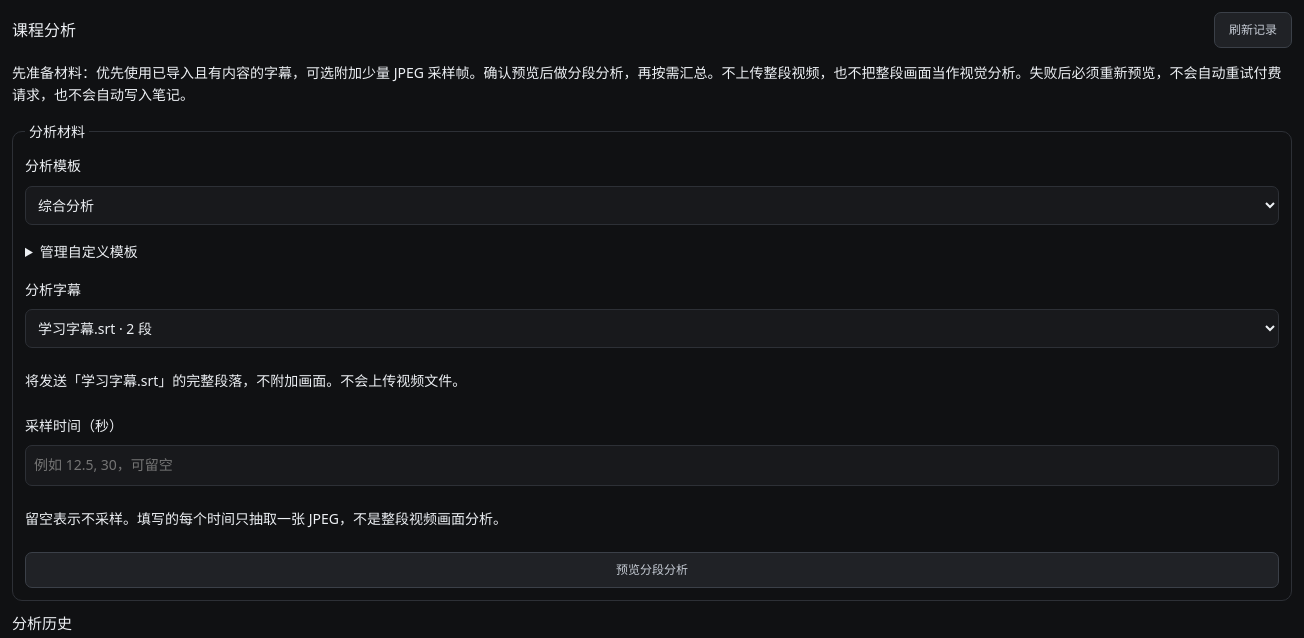
it: keeps the actual summary parent authoritative when refreshed metadata omits the selected record
The image size is (1304, 638).
Click the button "刷新记录": (1253, 30) [1214,12,1292,48]
(page scrolled)
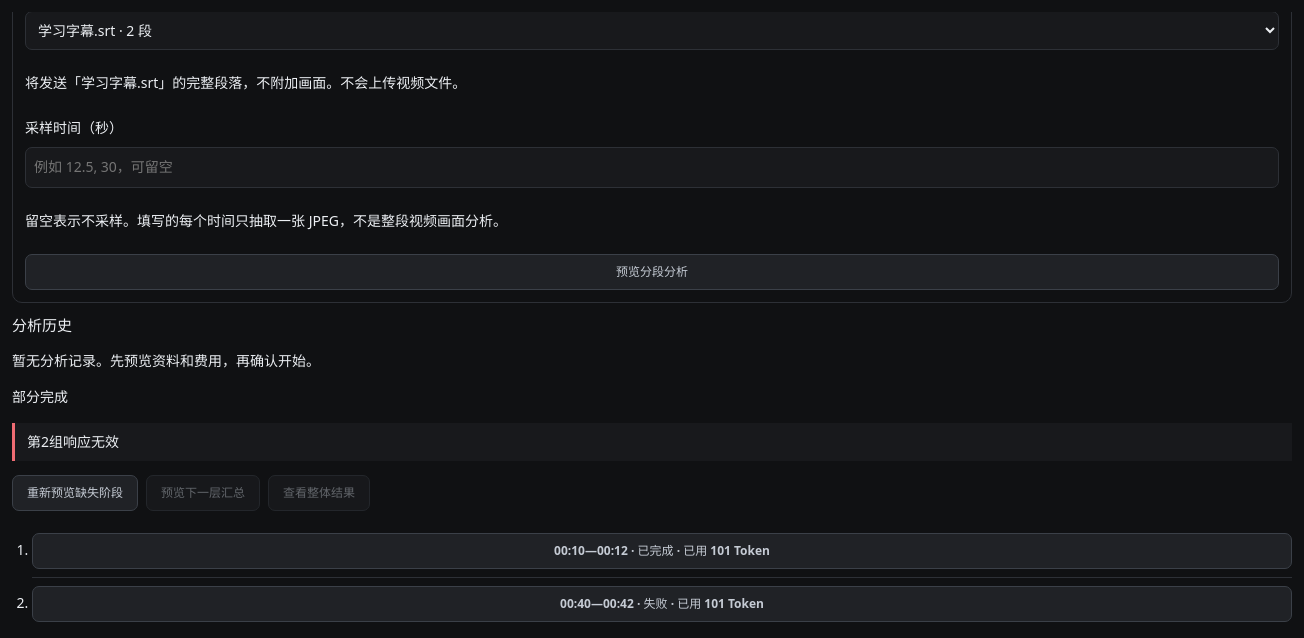
expect the text "暂无分析记录。先预览资料和费用，再确认开始。" is shown: met, box [12,351,320,370]
Click the button "重新预览缺失阶段": (75, 493) [12,475,138,511]
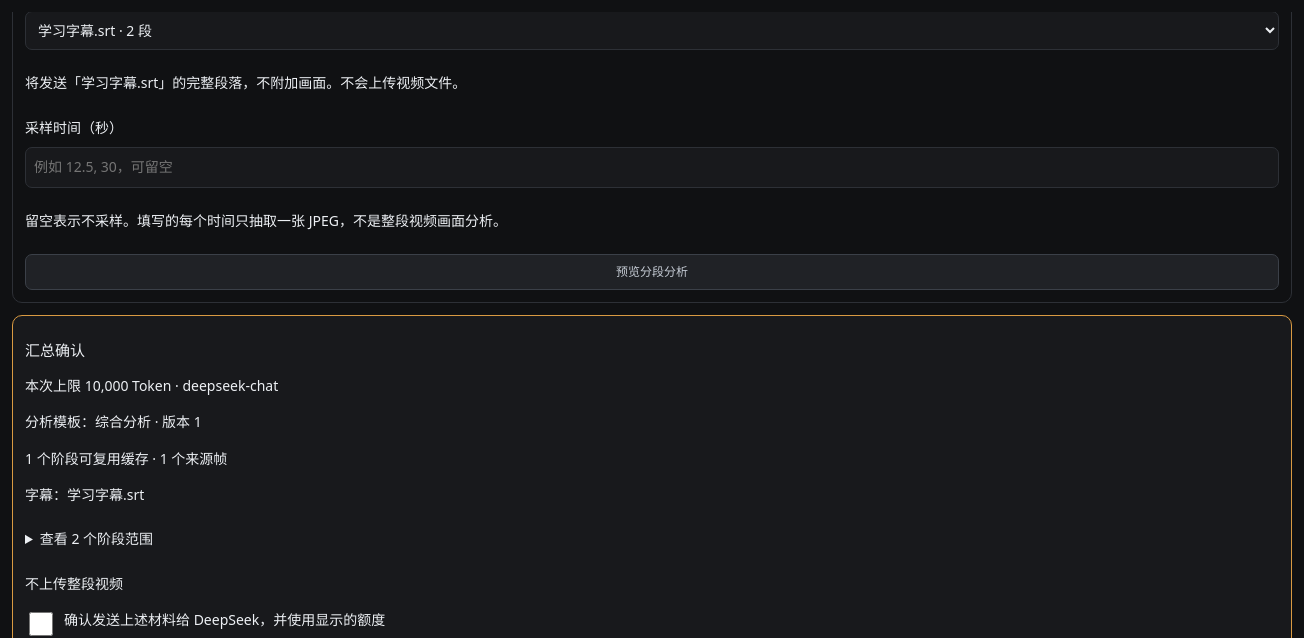
expect the text "本次上限 10,000 Token · deepseek-chat" is shown: met, box [25,376,278,395]
